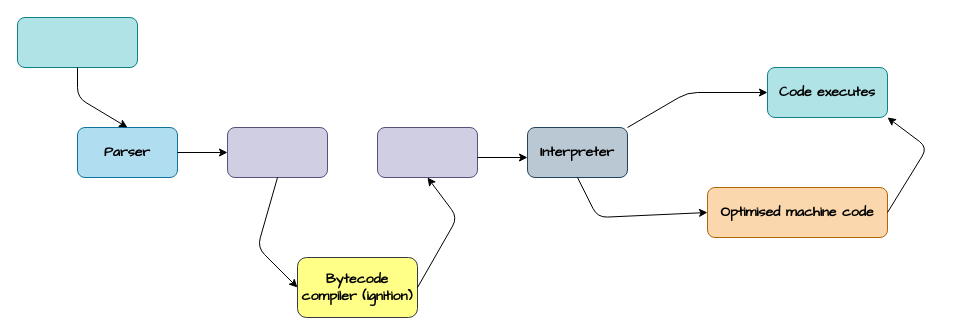
This 953x335 diagram has some shape labels left out. The centre of each missing label's shape, as x and y in pixels:
Abstract syntax tree: the point at 277,152
Bytecode: the point at 427,152
Javascript source: the point at 77,42
